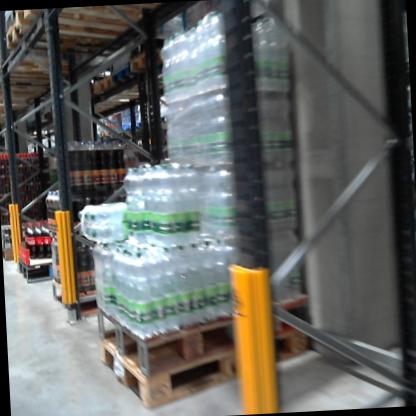pallet: (91, 270, 332, 384), (94, 320, 337, 409), (45, 258, 142, 327), (15, 3, 158, 49), (3, 15, 122, 64), (0, 37, 118, 85), (98, 72, 165, 105), (15, 253, 77, 288), (128, 41, 166, 75), (113, 63, 137, 86), (3, 246, 22, 265), (132, 138, 148, 148), (98, 131, 108, 140)
